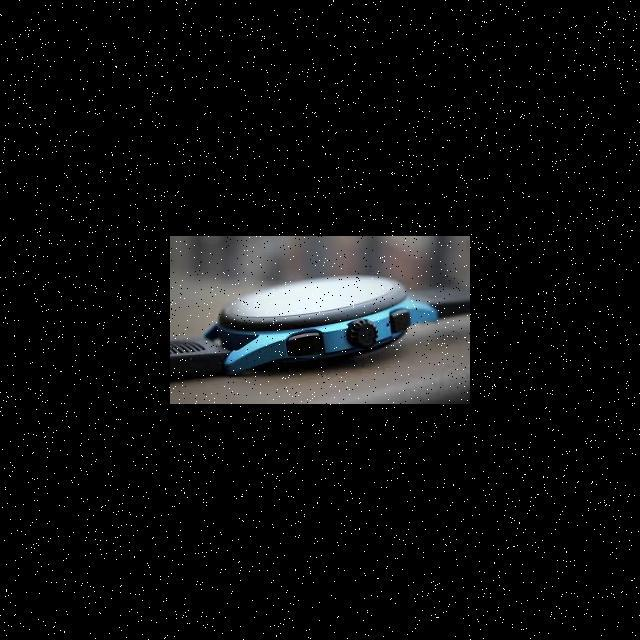watch: (154, 214, 475, 441)
